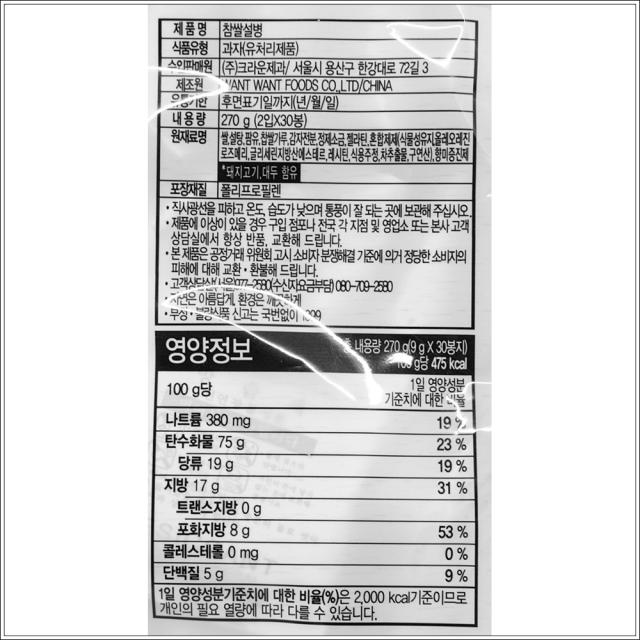Nutrition Label: (149, 326, 485, 631)
